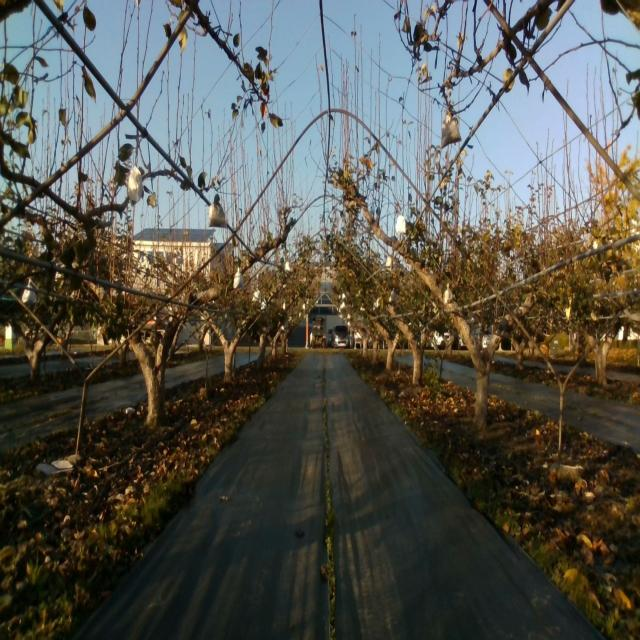pearbags: (440, 116, 462, 150), (127, 165, 144, 203), (208, 194, 225, 226), (233, 268, 244, 288), (395, 215, 406, 234)
